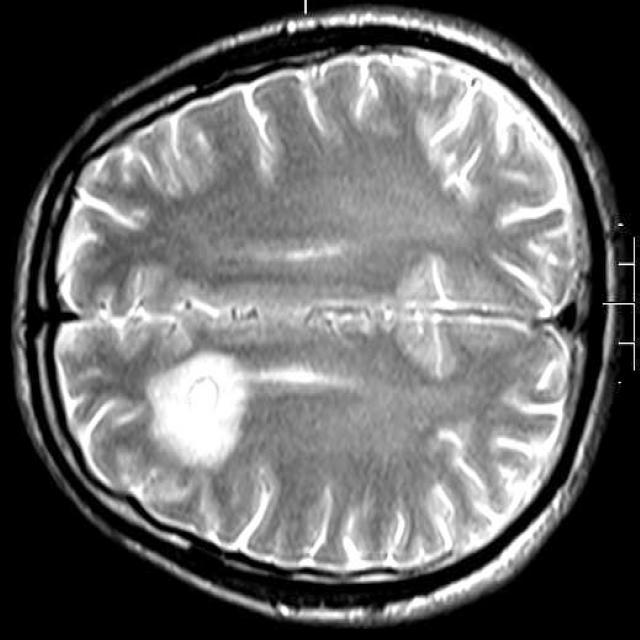tumor: (142, 351, 248, 474)
